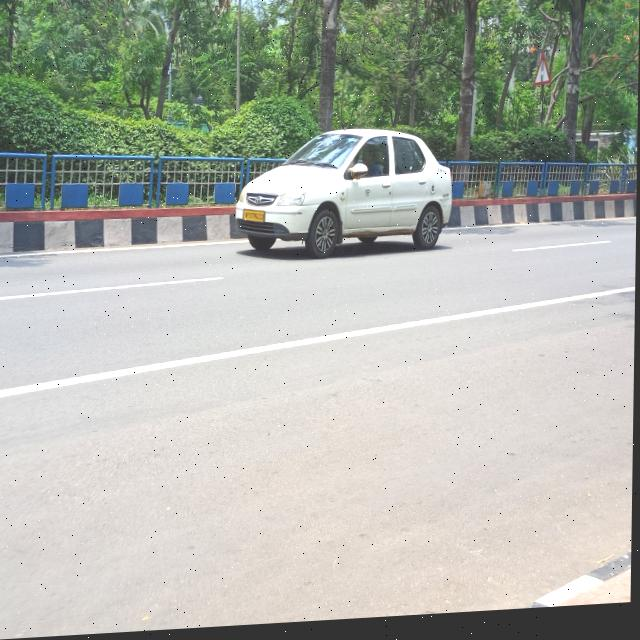car: (230, 119, 462, 280)
